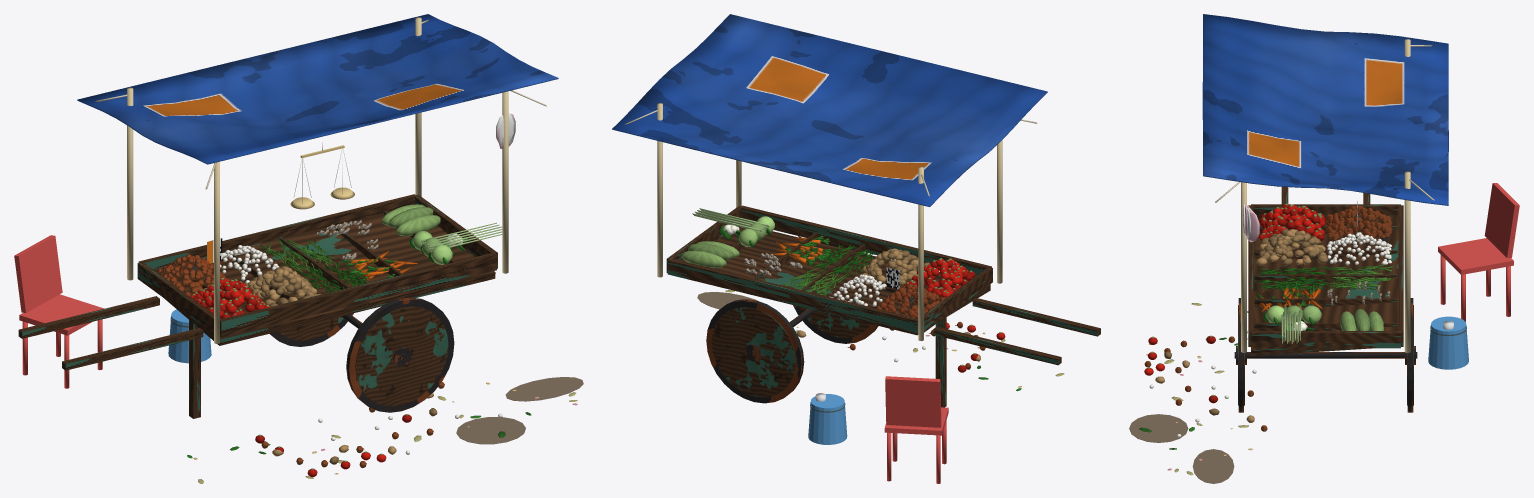
File: market_vegcart.glb
3 renders of one model, left to right at view 1: azimuth 30°, elevation 25°; view 2: azimuth 150°, elevation 25°; view 3: azimuth 270°, elevation 25°, orthographic. The views are drawn at different scales.
Visible parts, largest first — view 1: market_vegcart; view 2: market_vegcart; view 3: market_vegcart.
Part boxes in pixels (x1,y1,x2,y2): market_vegcart: [14, 14, 583, 483]; market_vegcart: [612, 14, 1100, 483]; market_vegcart: [1129, 14, 1519, 483].
Bounding box in the file's own units: 3.83 × 2.39 × 2.87.
58 materials, 29 textured.
